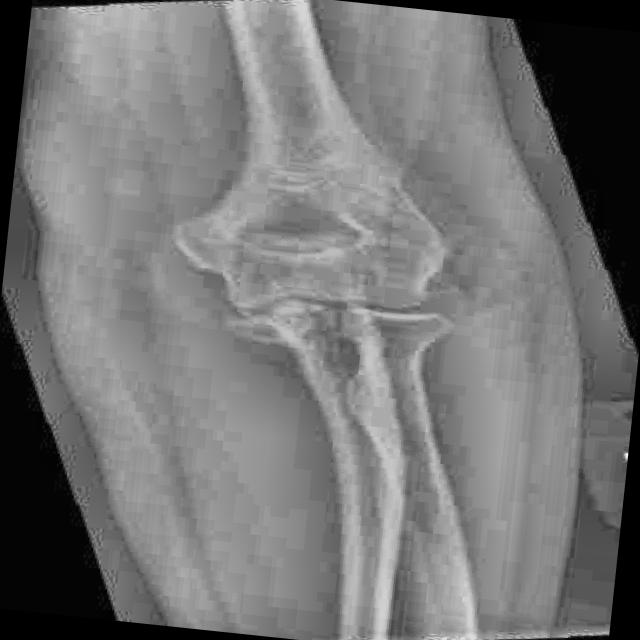elbow positive: (173, 291, 344, 362)
